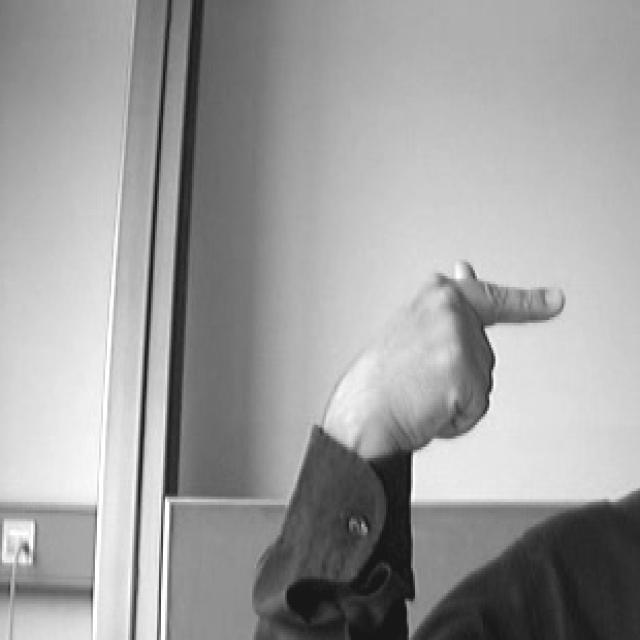T: (296, 247, 578, 457)
